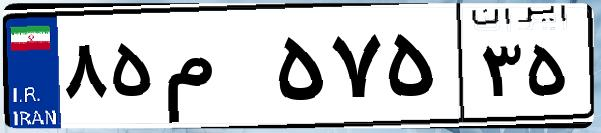3: (475, 38, 525, 113)
5: (270, 28, 330, 110), (385, 28, 445, 110), (525, 38, 570, 115), (110, 28, 158, 98)
7: (330, 28, 385, 110)
8: (57, 26, 110, 100)
م: (158, 20, 270, 120)
